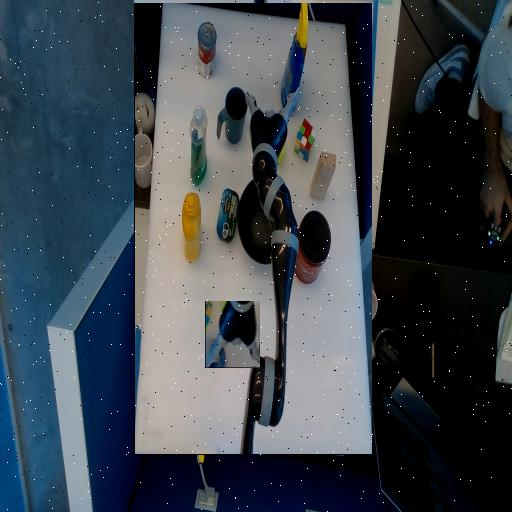bowl: (217, 210, 268, 262)
cleanser: (299, 303, 316, 319)
coffee_can: (176, 174, 214, 245)
jaco: (206, 301, 260, 367)
meat_can: (267, 229, 289, 251)
mug: (259, 313, 289, 369)
mustard_bottle: (305, 195, 324, 263)
rubik: (190, 305, 212, 327)
soup_can: (290, 397, 308, 415)
tennis_ball: (221, 300, 238, 317)
windex: (198, 345, 225, 463)
wooden_block: (171, 258, 195, 304)
workspace: (134, 3, 372, 454)
